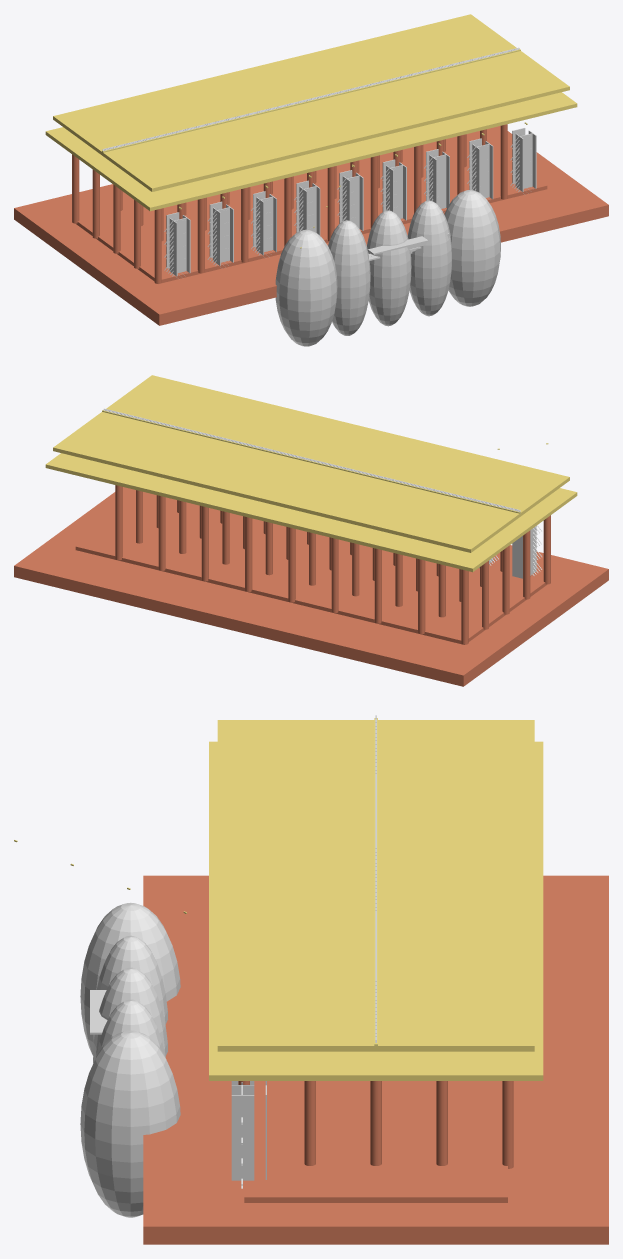
The model's file is tiananmen_gate.glb.
The picture shows the model from 3 angles, top to bottom: view 1: azimuth 30°, elevation 25°; view 2: azimuth 150°, elevation 25°; view 3: azimuth 270°, elevation 25°; orthographic projection. The views are drawn at different scales.
Parts seen in each view (by area): view 1: Upper_Roof_Base, Platform_Base, Pavilion_Base, Roof_Base, Arch_Vault_0, Arch_Vault_4, Arch_Vault_3, Arch_Vault_2, Arch_Vault_1, Main_Ridge, Column_2_0, Column_0_0 (+23 smaller); view 2: Upper_Roof_Base, Platform_Base, Pavilion_Base, Roof_Base, Main_Ridge, Column_6_4, Column_0_4, Column_2_4, Column_8_4, Column_4_4, Column_7_4, Column_1_4 (+10 smaller); view 3: Upper_Roof_Base, Platform_Base, Pavilion_Base, Roof_Base, Arch_Vault_4, Arch_Vault_0, Arch_Vault_2, Arch_Vault_1, Arch_Vault_3, Column_8_4, Column_8_2, Column_8_3 (+3 smaller).
Boxes of the visible parts, bbox=[...] form: Upper_Roof_Base: bbox=[53, 14, 569, 191]; Platform_Base: bbox=[14, 126, 608, 325]; Pavilion_Base: bbox=[76, 132, 547, 283]; Roof_Base: bbox=[45, 92, 577, 211]; Arch_Vault_0: bbox=[275, 229, 337, 346]; Arch_Vault_4: bbox=[444, 190, 500, 306]; Arch_Vault_3: bbox=[407, 200, 451, 316]; Arch_Vault_2: bbox=[367, 210, 411, 326]; Arch_Vault_1: bbox=[328, 220, 370, 335]; Main_Ridge: bbox=[102, 49, 520, 152]; Column_2_0: bbox=[241, 187, 248, 262]; Column_0_0: bbox=[154, 208, 161, 283]; Upper_Roof_Base: bbox=[53, 375, 569, 552]; Platform_Base: bbox=[14, 487, 608, 686]; Pavilion_Base: bbox=[75, 493, 547, 644]; Roof_Base: bbox=[45, 453, 577, 572]; Main_Ridge: bbox=[102, 410, 520, 514]; Column_6_4: bbox=[201, 506, 208, 581]; Column_0_4: bbox=[461, 569, 468, 644]; Column_2_4: bbox=[374, 548, 381, 623]; Column_8_4: bbox=[115, 485, 122, 560]; Column_4_4: bbox=[288, 527, 295, 602]; Column_7_4: bbox=[158, 495, 165, 570]; Column_1_4: bbox=[418, 559, 425, 634]; Upper_Roof_Base: bbox=[217, 720, 534, 1051]; Platform_Base: bbox=[143, 875, 608, 1244]; Pavilion_Base: bbox=[244, 1081, 507, 1202]; Roof_Base: bbox=[209, 741, 543, 1080]; Arch_Vault_4: bbox=[80, 1030, 180, 1217]; Arch_Vault_0: bbox=[80, 902, 180, 1055]; Arch_Vault_2: bbox=[93, 967, 167, 1063]; Arch_Vault_1: bbox=[93, 935, 167, 1041]; Arch_Vault_3: bbox=[96, 999, 165, 1057]; Column_8_4: bbox=[502, 1081, 513, 1168]; Column_8_2: bbox=[370, 1081, 381, 1165]; Column_8_3: bbox=[436, 1081, 447, 1165].
Bounding box in the file's own units: 66 × 23.95 × 47.28.
